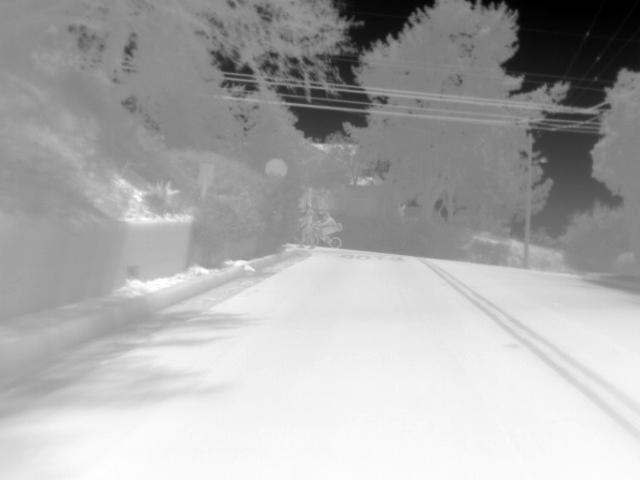person: (317, 213, 337, 245)
